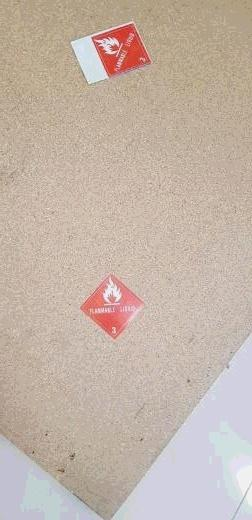flammable: (78, 271, 145, 342), (91, 21, 152, 79)
